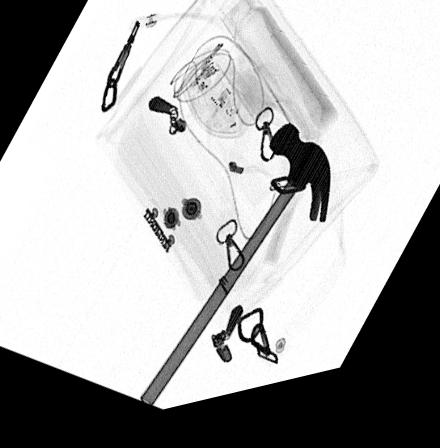Hammer: (140, 134, 331, 413)
